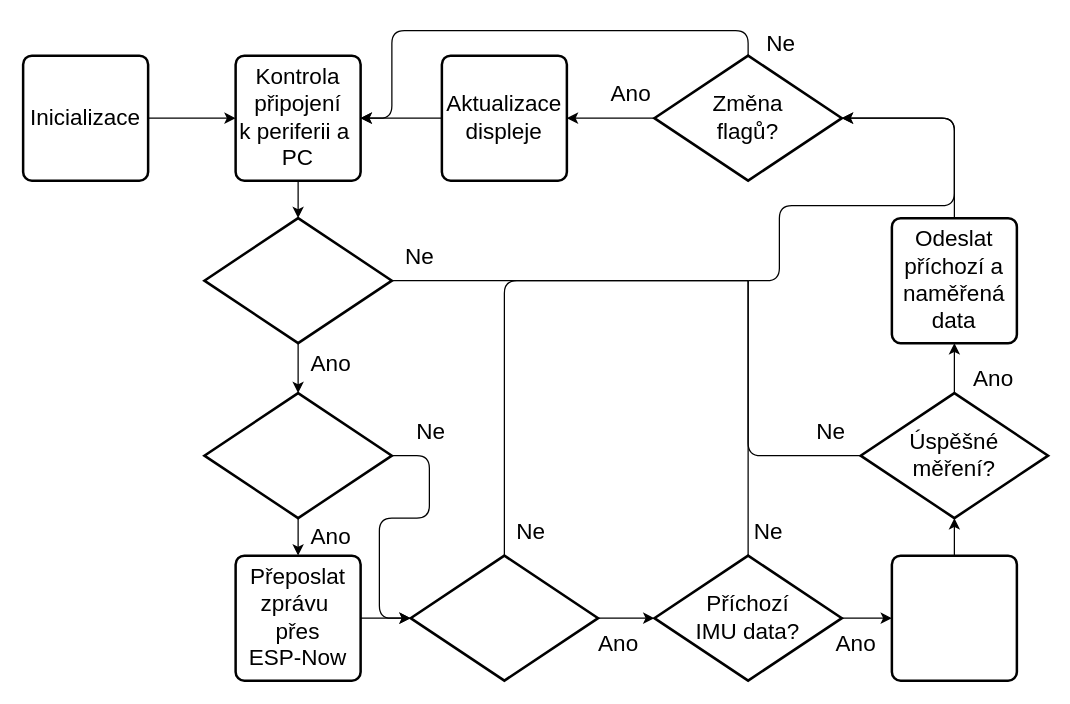
This 1070x704 diagram has some shape labels left out. Each missing label, with the centre of its shape:
"IMU Měření" belongs at point (954, 617).
"Měření povoleno?" belongs at point (504, 617).
"Nová BLE zpráva ?" belongs at point (297, 455).
"Připojení v pořádku?" belongs at point (297, 280).
